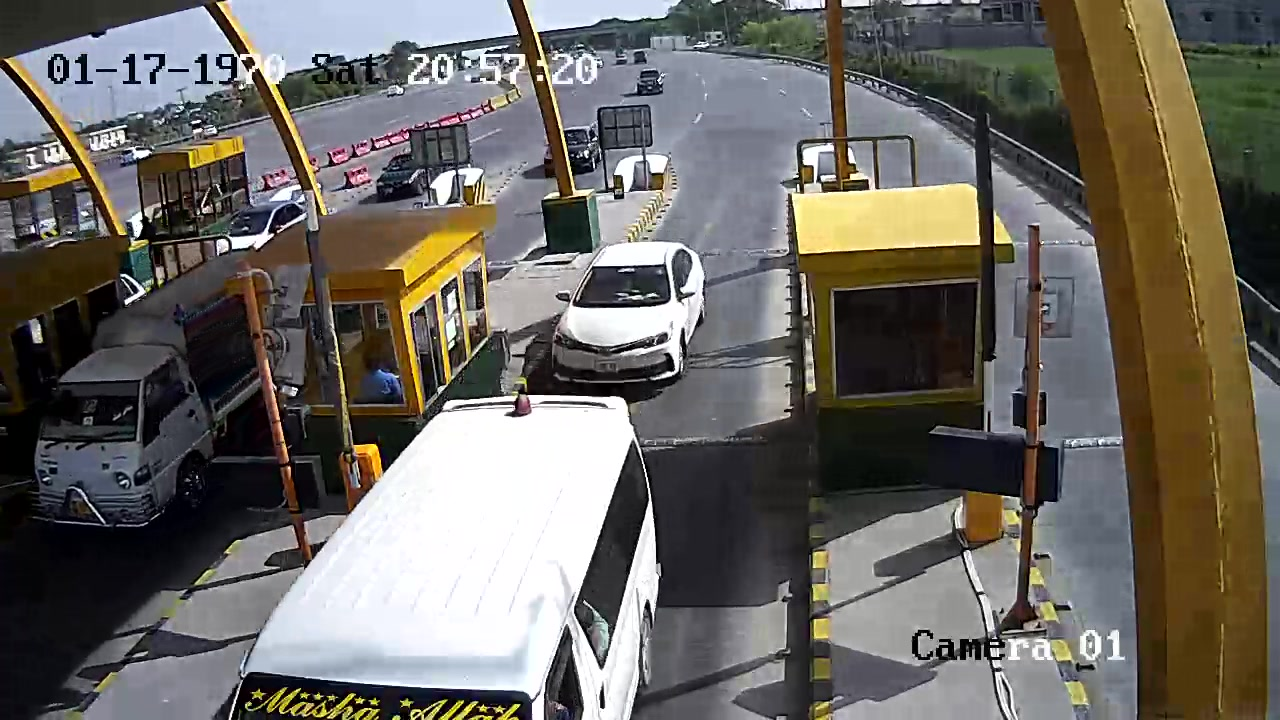F1: (546, 240, 720, 394)
